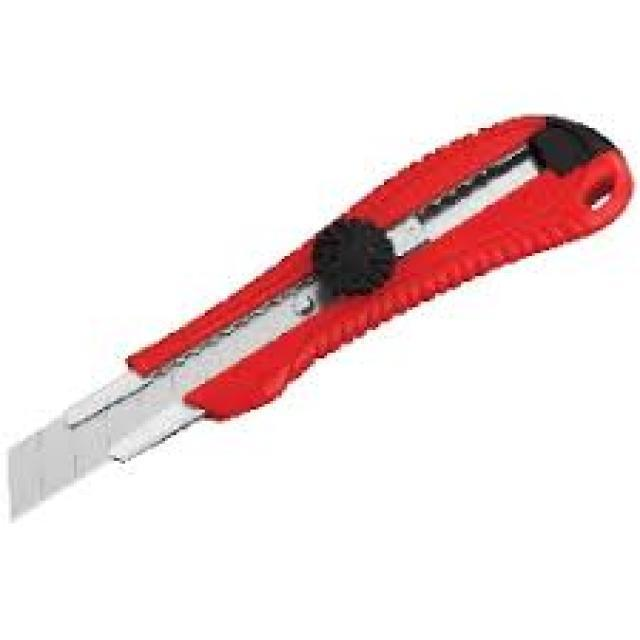cutter: (3, 106, 637, 532)
